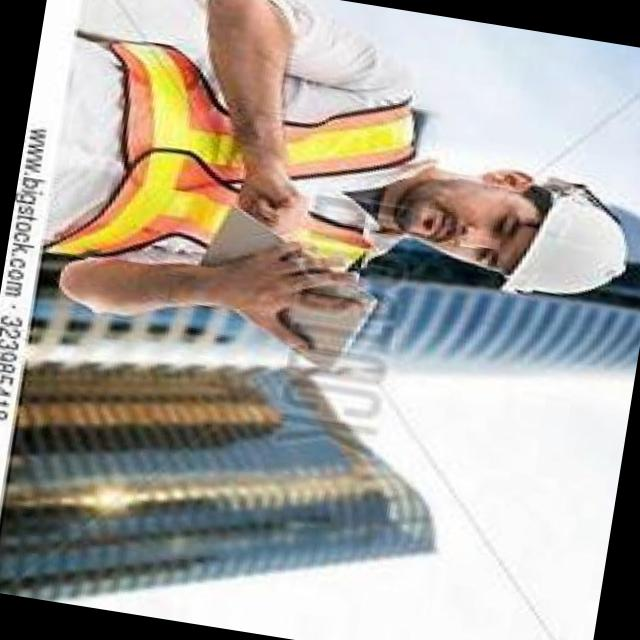not-gloved: (208, 236, 370, 382), (236, 167, 322, 244)
